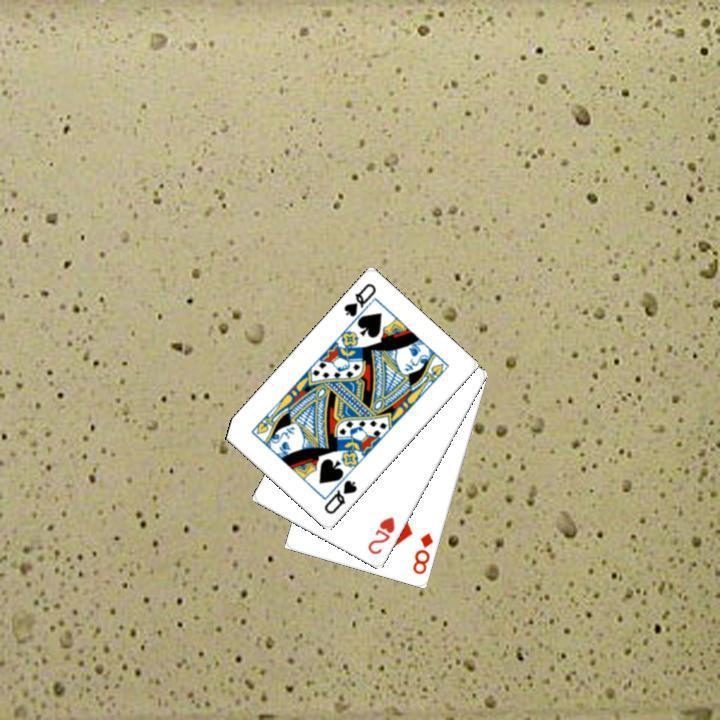2: (363, 512, 397, 557)
8: (408, 528, 435, 577)
Q: (319, 476, 359, 517), (339, 279, 378, 320)
